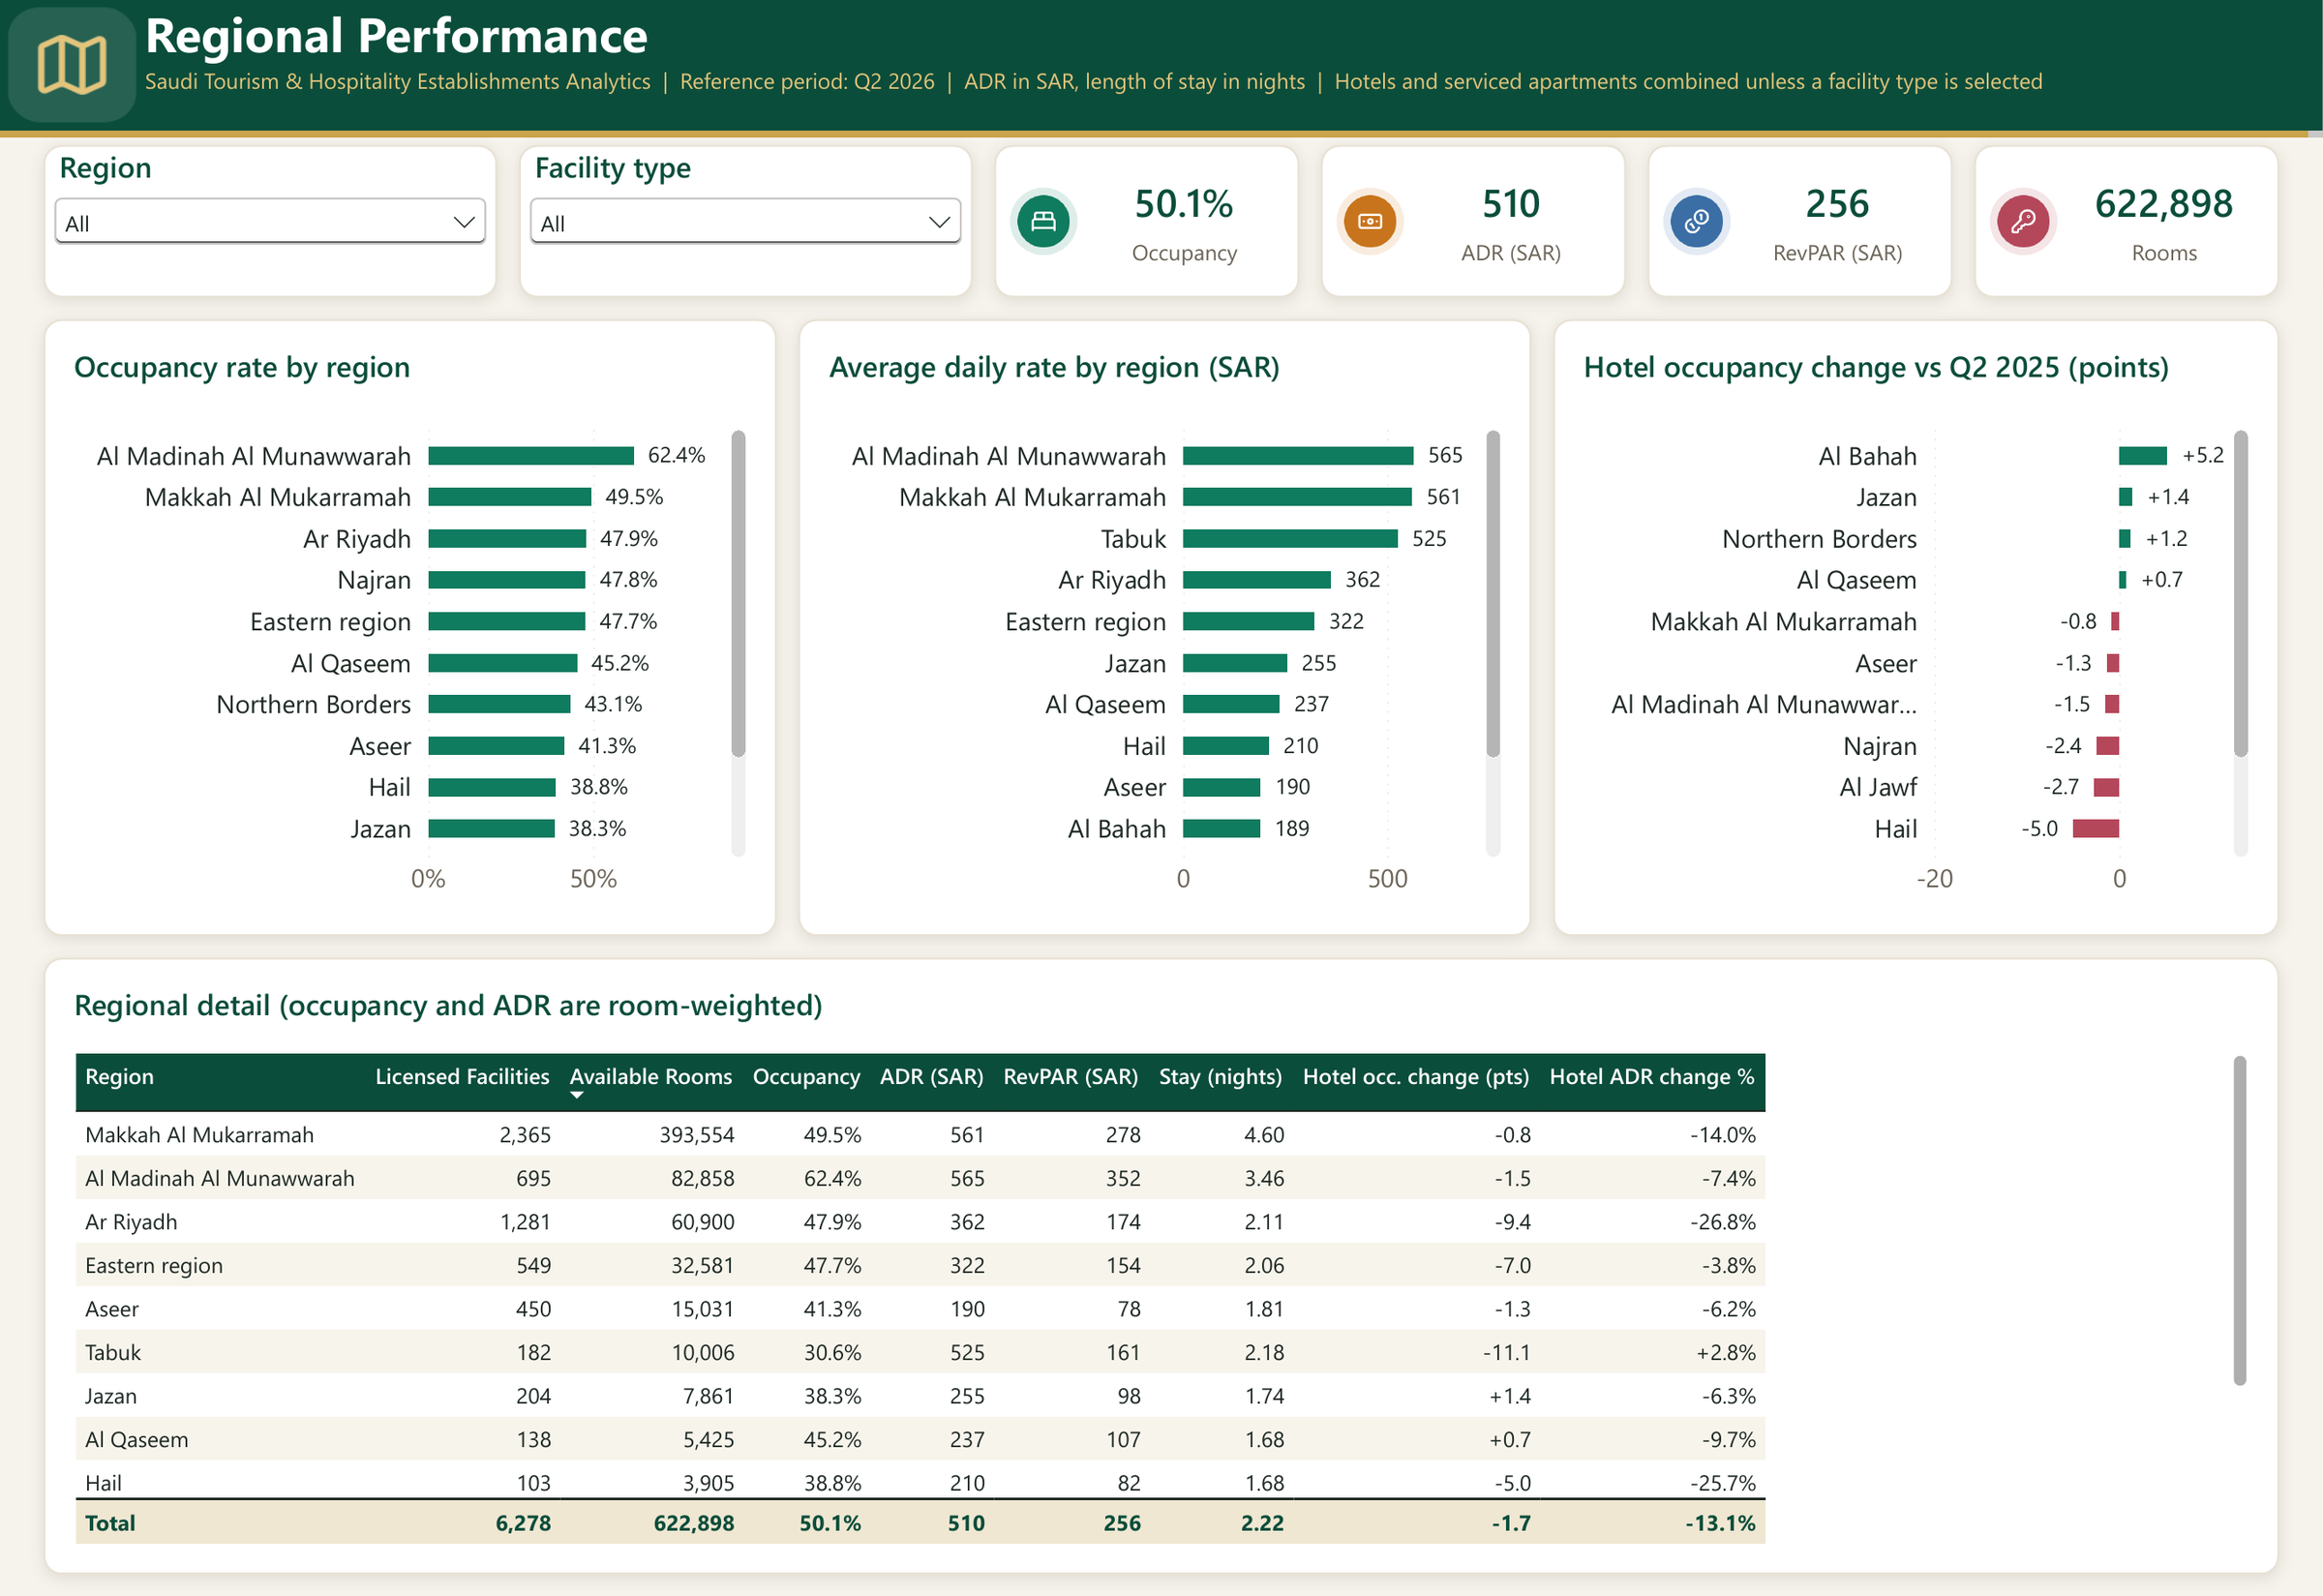

The dashboard page shown, as its layout file describes it:
{"tool":"powerbi","page":{"name":"Regional Performance","canvas":[1280,880],"ordinal":1},"visuals":[{"type":"textbox","box":[80,0,1200,72],"z":0},{"type":"image","box":[0,0,80,72],"z":1},{"type":"textbox","box":[0,72,1280,4],"z":2},{"type":"slicer","fields":{"Values":["Dim_Region.Region"]},"box":[24,80,250,84],"z":1000},{"type":"slicer","fields":{"Values":["Dim_Facility_Type.Facility_Type"]},"box":[286,80,250,84],"z":2000},{"type":"textbox","box":[548,80,168,84],"z":2998},{"type":"card","fields":{"Values":["_Measures.Occupancy Rate"]},"box":[594,80,118,84],"z":3000},{"type":"image","box":[556,103,38,38],"z":3001},{"type":"textbox","box":[728,80,168,84],"z":3998},{"type":"card","fields":{"Values":["_Measures.ADR (SAR)"]},"box":[774,80,118,84],"z":4000},{"type":"image","box":[736,103,38,38],"z":4001},{"type":"textbox","box":[908,80,168,84],"z":4998},{"type":"card","fields":{"Values":["_Measures.RevPAR (SAR)"]},"box":[954,80,118,84],"z":5000},{"type":"image","box":[916,103,38,38],"z":5001},{"type":"textbox","box":[1088,80,168,84],"z":5998},{"type":"card","fields":{"Values":["_Measures.Available Rooms"]},"box":[1134,80,118,84],"z":6000},{"type":"image","box":[1096,103,38,38],"z":6001},{"type":"clusteredBarChart","title":"Occupancy rate by region","fields":{"Category":["Dim_Region.Region"],"Y":["_Measures.Occupancy Rate"]},"box":[24,176,404,340],"z":7000},{"type":"clusteredBarChart","title":"Average daily rate by region (SAR)","fields":{"Category":["Dim_Region.Region"],"Y":["_Measures.ADR (SAR)"]},"box":[440,176,404,340],"z":8000},{"type":"clusteredBarChart","title":"Hotel occupancy change vs Q2 2025 (points)","fields":{"Category":["Dim_Region.Region"],"Y":["_Measures.Hotel Occupancy Change (pts)"]},"box":[856,176,400,340],"z":9000},{"type":"tableEx","title":"Regional detail (occupancy and ADR are room-weighted)","fields":{"Values":["Dim_Region.Region","_Measures.Licensed Facilities","_Measures.Available Rooms","_Measures.Occupancy Rate","_Measures.ADR (SAR)","_Measures.RevPAR (SAR)","_Measures.Length of Stay (nights)","_Measures.Hotel Occupancy Change (pts)","_Measures.Hotel ADR Change %"]},"box":[24,528,1232,340],"z":10000}]}

Visuals, with their boxes in screenshot pixels (x1, y1, x2, y2), scaled from the page's 1280x880 canvas onto the 2323x1596 screenshot:
textbox: (145, 0, 2322, 131)
image: (0, 0, 145, 131)
textbox: (0, 131, 2322, 137)
slicer - Dim_Region.Region: (44, 145, 498, 297)
slicer - Dim_Facility_Type.Facility_Type: (519, 145, 973, 297)
textbox: (995, 145, 1299, 297)
card - _Measures.Occupancy Rate: (1078, 145, 1292, 297)
image: (1009, 187, 1078, 256)
textbox: (1321, 145, 1626, 297)
card - _Measures.ADR (SAR): (1404, 145, 1618, 297)
image: (1336, 187, 1404, 256)
textbox: (1647, 145, 1953, 297)
card - _Measures.RevPAR (SAR): (1732, 145, 1946, 297)
image: (1663, 187, 1732, 256)
textbox: (1975, 145, 2279, 297)
card - _Measures.Available Rooms: (2058, 145, 2273, 297)
image: (1989, 187, 2058, 256)
"Occupancy rate by region" clusteredBarChart: (44, 319, 776, 936)
"Average daily rate by region (SAR)" clusteredBarChart: (799, 319, 1531, 936)
"Hotel occupancy change vs Q2 2025 (points)" clusteredBarChart: (1554, 319, 2279, 936)
"Regional detail (occupancy and ADR are room-weighted)" tableEx: (44, 957, 2279, 1575)
